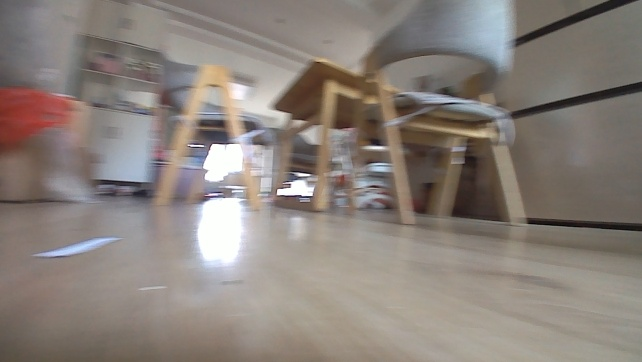dining_table: (150, 0, 529, 227)
refrigerator1: (503, 0, 641, 230)
